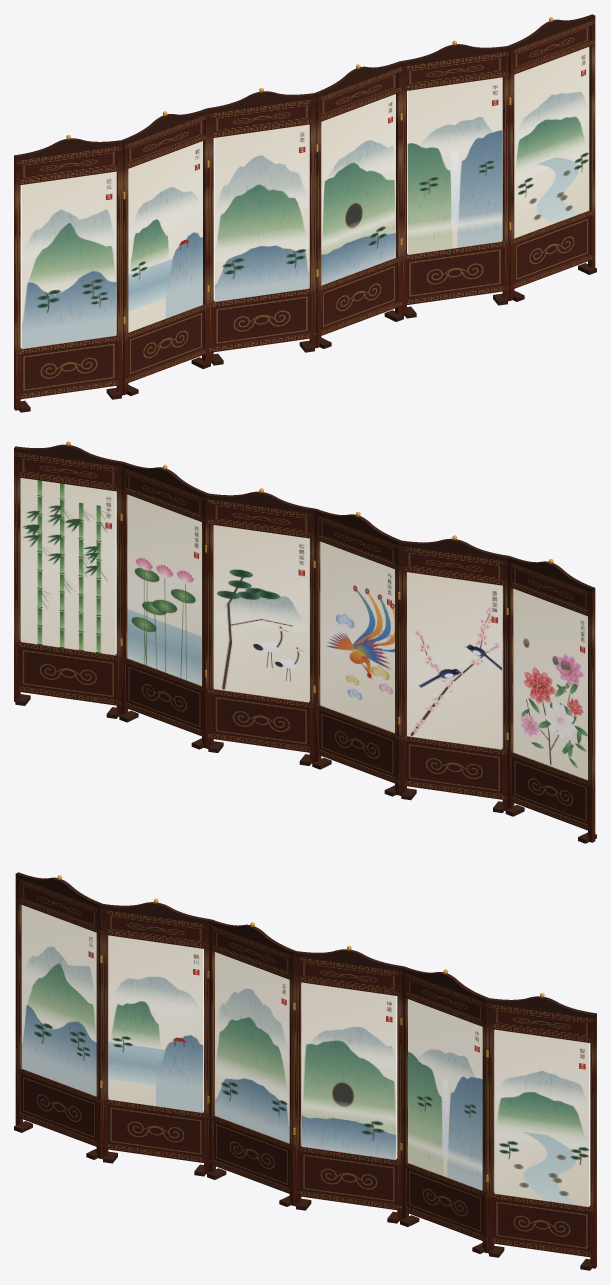
Rendered from screen.glb.
The picture shows the model from 3 angles, top to bottom: view 1: azimuth 30°, elevation 25°; view 2: azimuth 150°, elevation 25°; view 3: azimuth 330°, elevation 25°; orthographic projection.
Visible parts, largest first — view 1: EmbroideryScreen; view 2: EmbroideryScreen; view 3: EmbroideryScreen.
Boxes of the visible parts, left/top/right/bottom form: EmbroideryScreen: left=14, top=14, right=596, bottom=412; EmbroideryScreen: left=14, top=441, right=596, bottom=843; EmbroideryScreen: left=14, top=872, right=596, bottom=1270.
Bounding box in the file's own units: 19.43 × 8.55 × 1.11.
16 materials, 14 textured.
